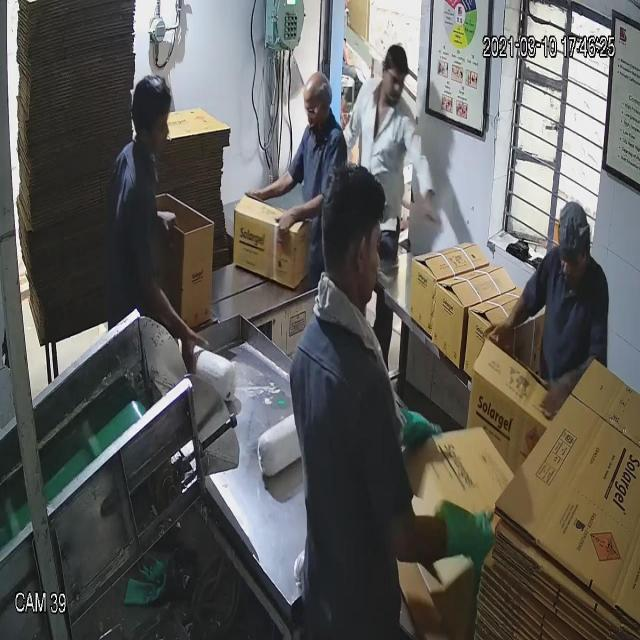No_Gloves: (46, 55, 506, 532)
